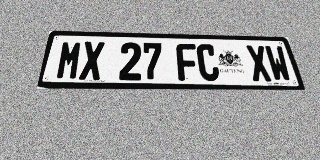2: (119, 42, 141, 80)
7: (142, 43, 163, 80)
C: (196, 44, 221, 81)
F: (176, 43, 199, 81)
M: (55, 41, 83, 80)
W: (264, 46, 293, 82)
X: (79, 41, 105, 80), (245, 45, 273, 81)
